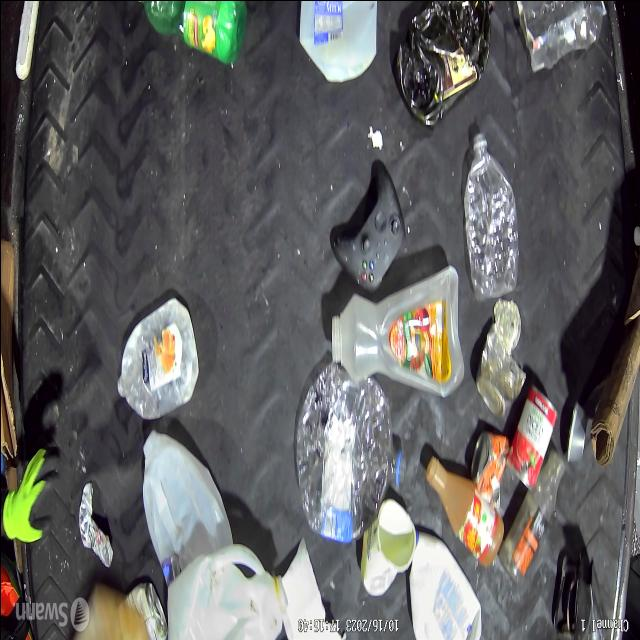can: (506, 377, 558, 490), (476, 294, 522, 416), (466, 410, 506, 514)
milk_jug: (140, 430, 230, 588), (165, 541, 295, 640), (405, 529, 485, 640), (290, 0, 378, 87)
plastic_bottle: (292, 357, 404, 542), (457, 128, 518, 296), (131, 0, 245, 64)
